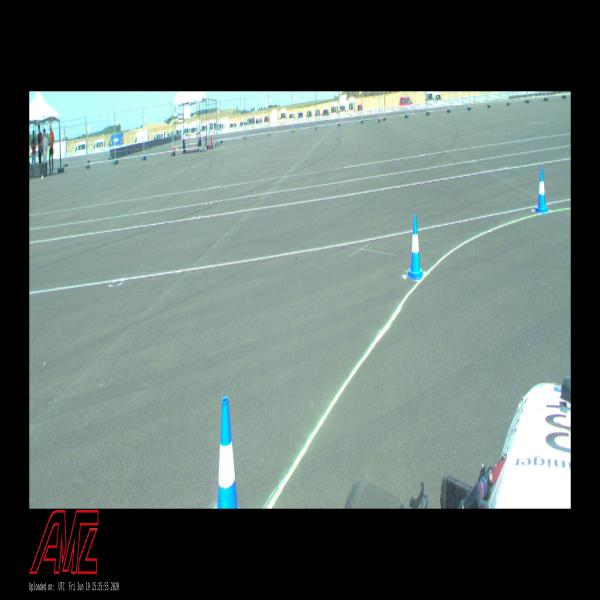blue_cone: (218, 397, 240, 509), (406, 215, 424, 280), (534, 169, 550, 214)
